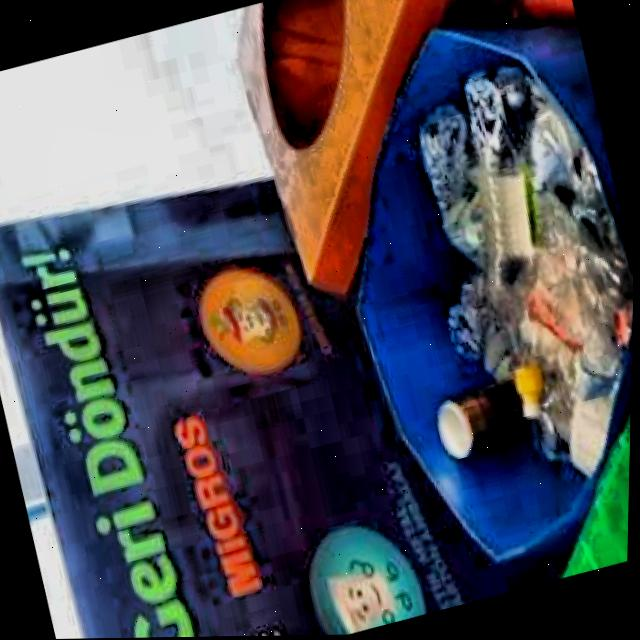metal: (440, 399, 477, 457)
